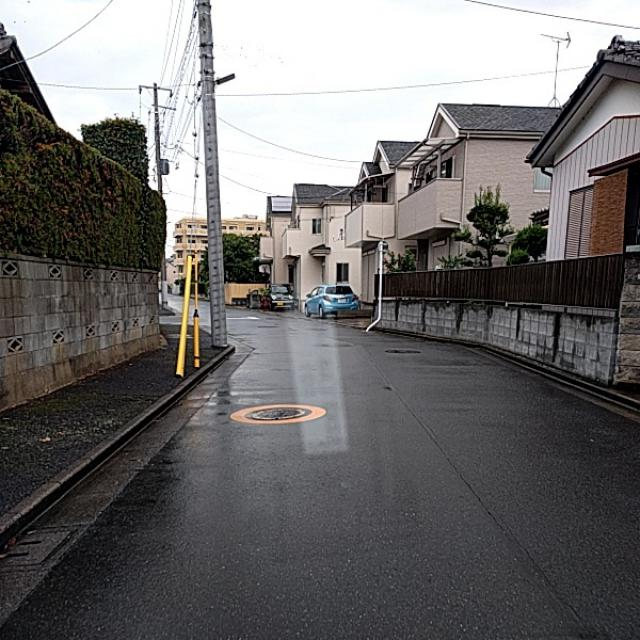pothole: (335, 394, 420, 456)
